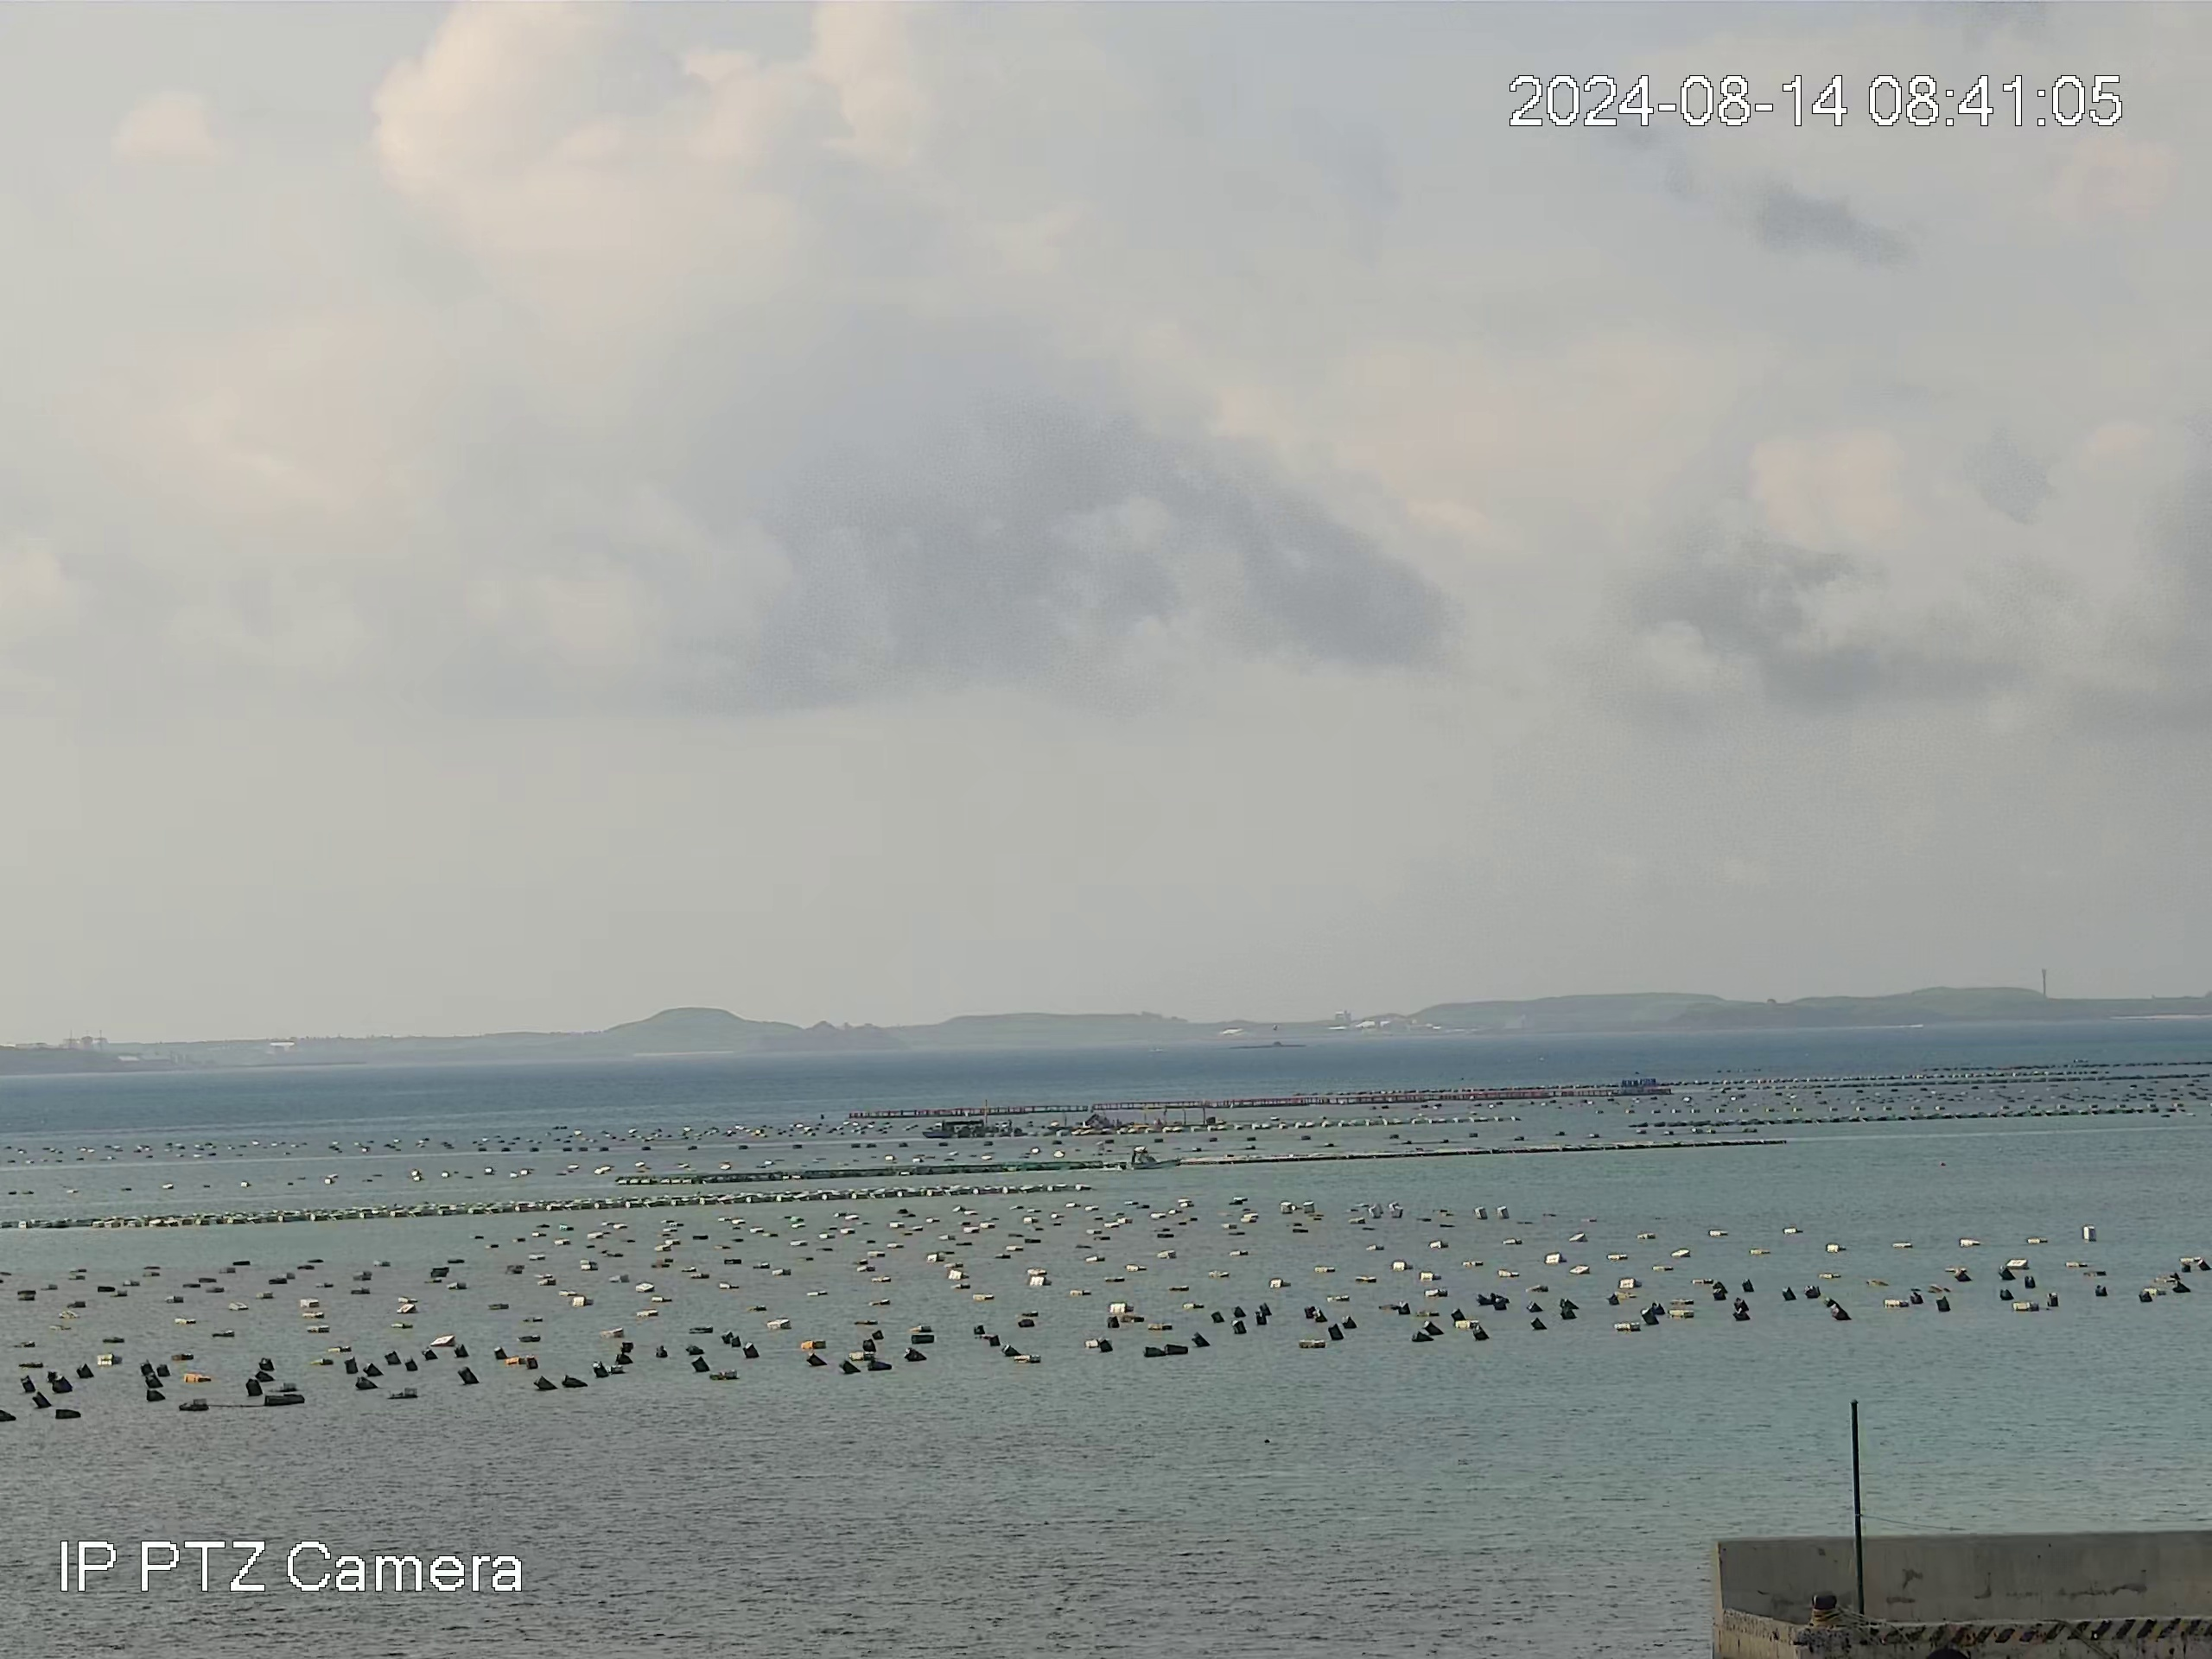boat: (920, 1122, 995, 1140), (1125, 1148, 1183, 1171)
